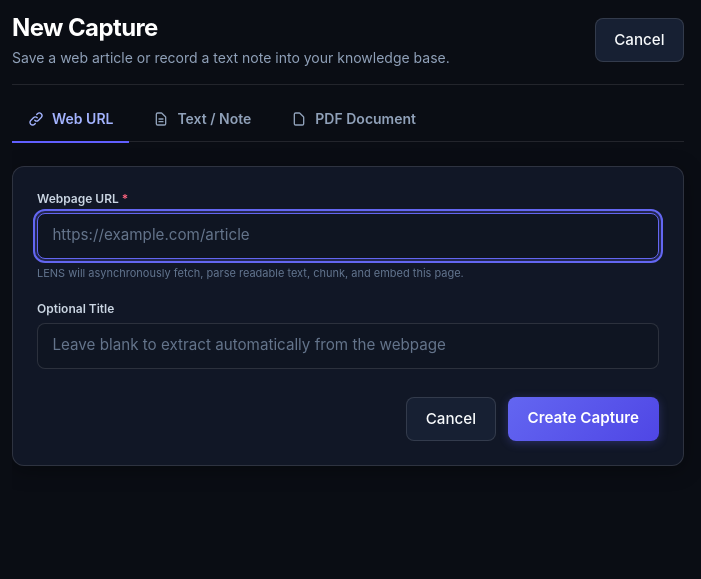
Captures Management & Creation (Tests 4-12) › 12. handles general API failure gracefully without crashing
The image size is (701, 579).
Type "https://example.com/page" into the field labelled "Webpage URL *" at coordinates (348, 236), box left=37, top=213, right=659, bottom=259
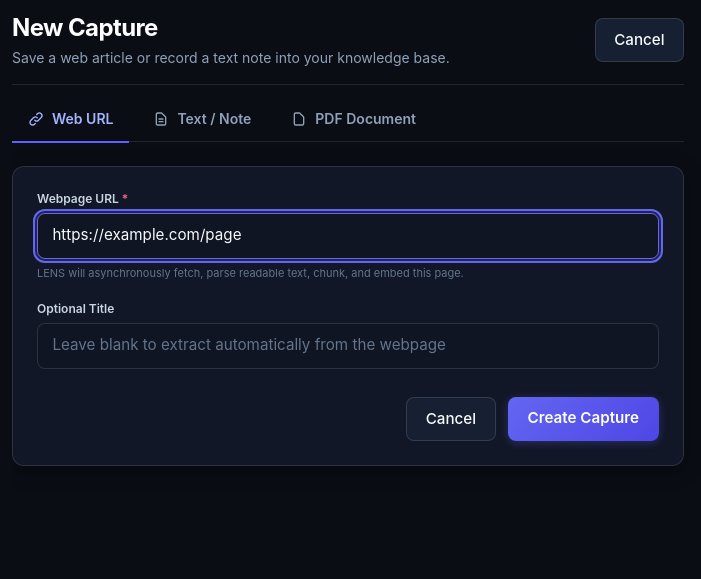
Click the button with test id "submit-capture-btn" at coordinates (583, 419), box left=508, top=397, right=659, bottom=441
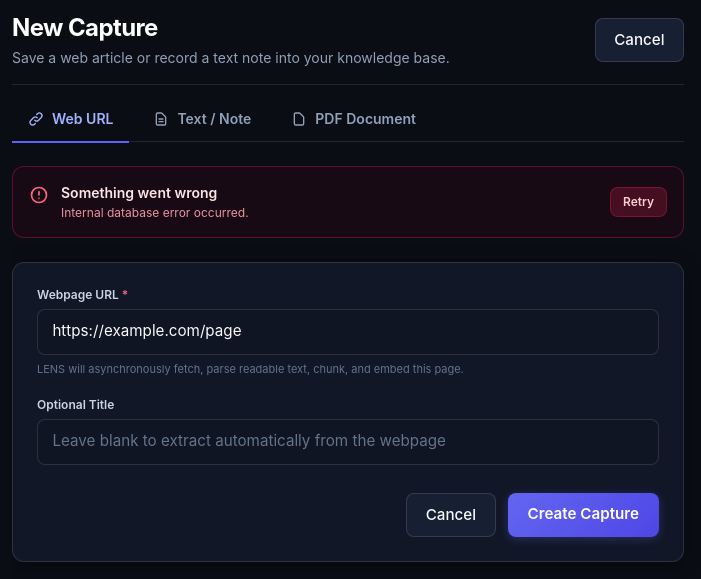
Expected: the text "Internal database error occurred." is shown, left=61, top=205, right=249, bottom=221
